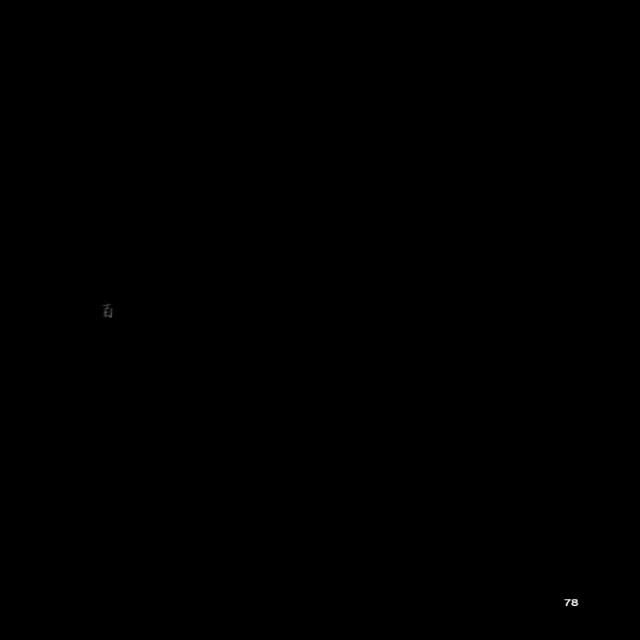100 -a hundred-: (100, 300, 115, 319)
